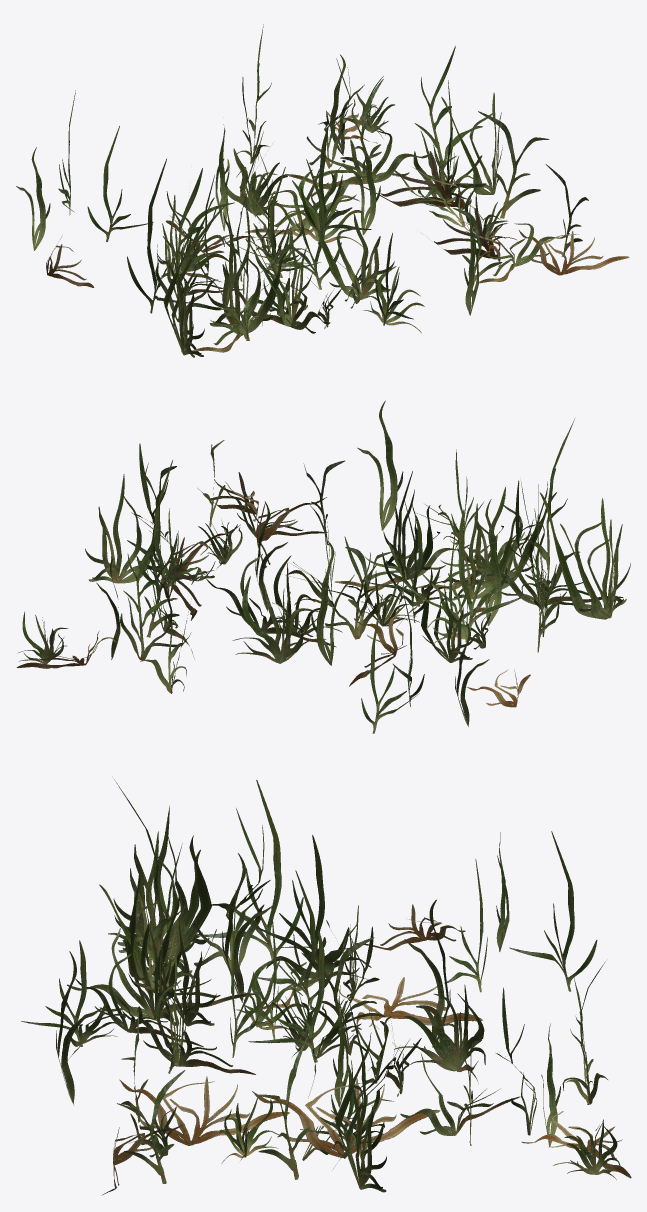
The model's file is grass-clusters.glb.
3 views of the same model, one above another, from view 1: azimuth 30°, elevation 25°; view 2: azimuth 150°, elevation 25°; view 3: azimuth 270°, elevation 25° (orthographic). The views are drawn at different scales.
Visible parts, largest first — view 1: grass_cluster_0, grass_cluster_1, grass_cluster_2; view 2: grass_cluster_2, grass_cluster_1, grass_cluster_0; view 3: grass_cluster_1, grass_cluster_2, grass_cluster_0.
Part boxes in pixels (bbox=[...]): grass_cluster_0: bbox=[46, 24, 569, 352]; grass_cluster_1: bbox=[180, 54, 588, 333]; grass_cluster_2: bbox=[16, 76, 629, 357]; grass_cluster_2: bbox=[17, 400, 630, 726]; grass_cluster_1: bbox=[85, 440, 556, 659]; grass_cluster_0: bbox=[16, 443, 623, 733]; grass_cluster_1: bbox=[67, 835, 560, 1192]; grass_cluster_2: bbox=[21, 779, 620, 1195]; grass_cluster_0: bbox=[75, 780, 631, 1178].
Size of the model in its own units: 0.5663 by 0.2197 by 0.5512.
Materials: 1 (1 with a texture image).
